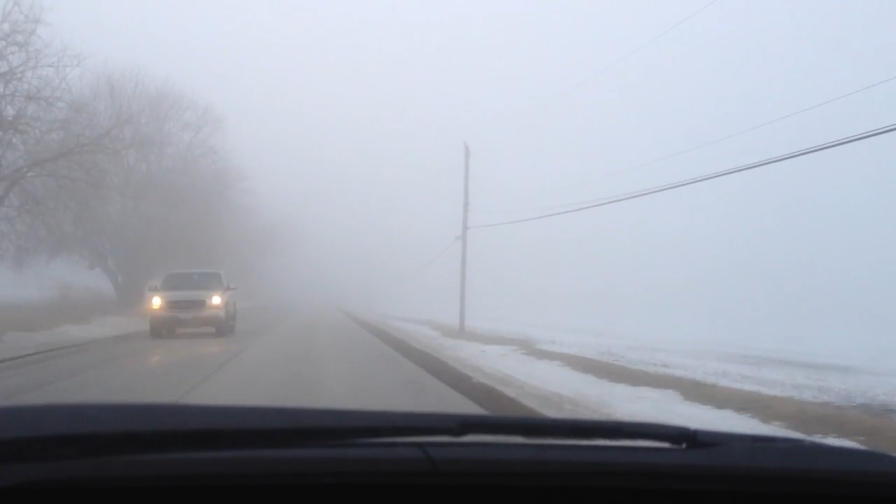car: (146, 268, 238, 338)
